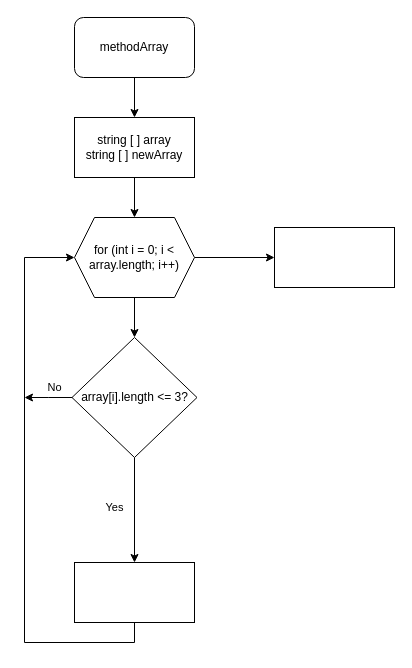
Some shapes in this 412 by 668 pixel diagram are drawn without their labels. Here are the shapes that lost their labels. From the top down, the centre of each, then its label:
At point 334,257: "Print(newArray)".
At point 134,592: "newArray[i] = array[i]".
